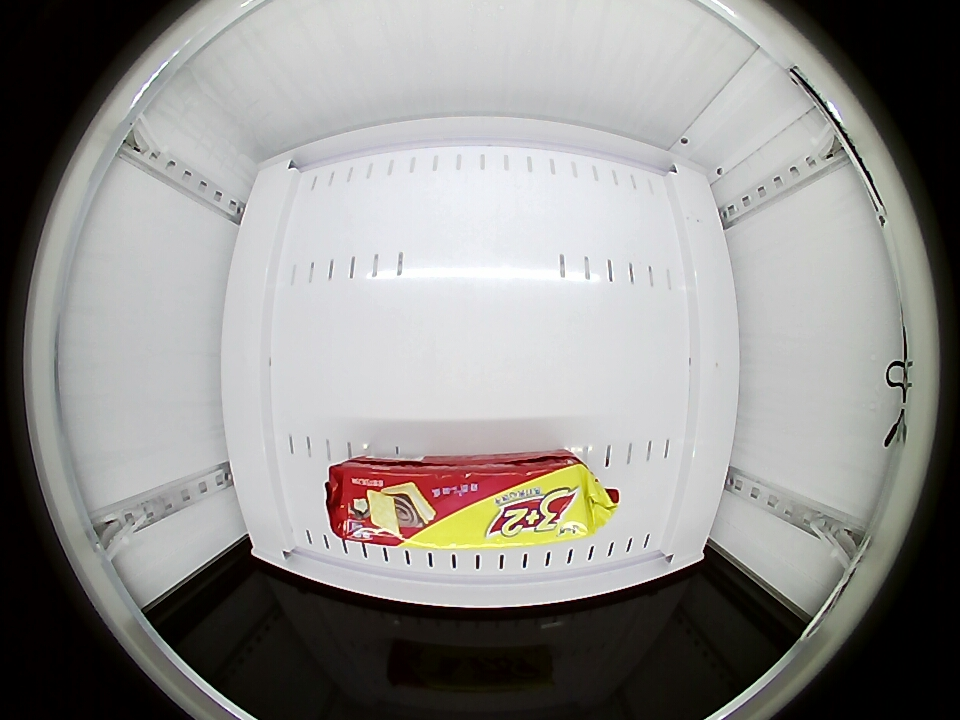3jia2: (332, 458, 599, 550)
